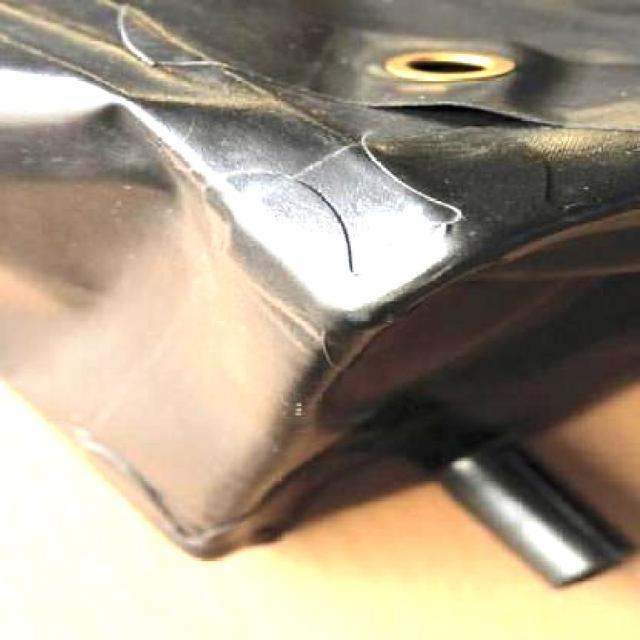crack: (294, 179, 388, 274)
